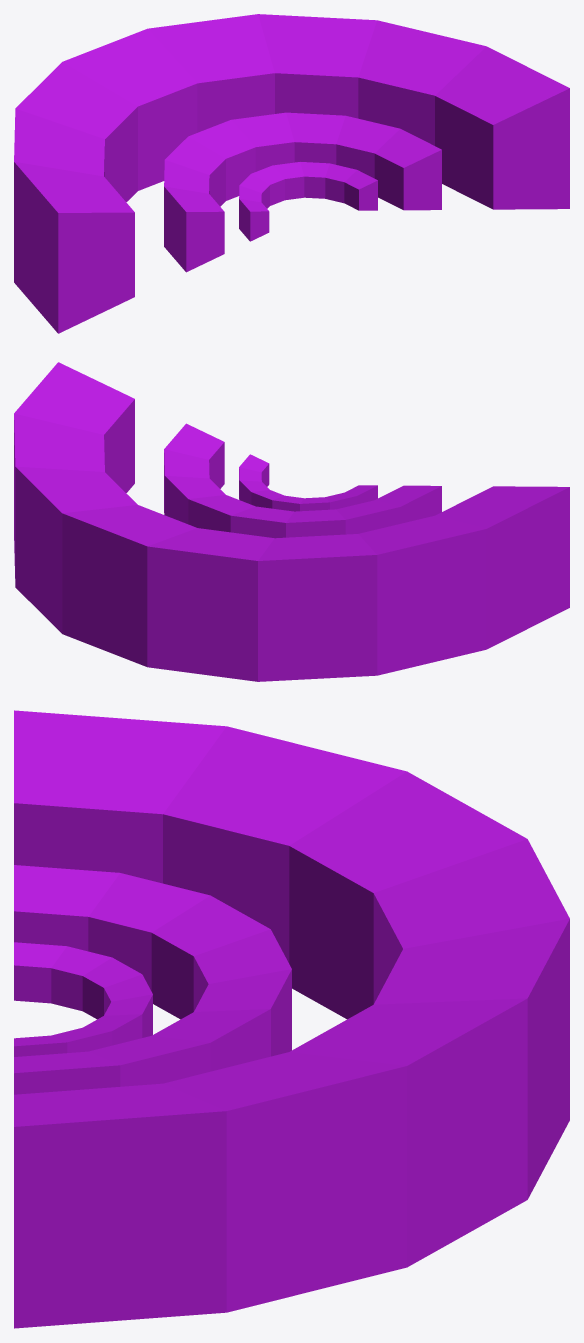
The model's file is powerup_hemisphere_shot.fbx.
3 renders of one model, top to bottom at view 1: azimuth 30°, elevation 25°; view 2: azimuth 150°, elevation 25°; view 3: azimuth 270°, elevation 25°, orthographic. The views are drawn at different scales.
Visible parts, largest first — view 1: powerup_hemisphere_shot.001; view 2: powerup_hemisphere_shot.001; view 3: powerup_hemisphere_shot.001.
Part boxes in pixels (box(x1,y1,x2,y2)): powerup_hemisphere_shot.001: box(14, 14, 569, 333); powerup_hemisphere_shot.001: box(14, 362, 569, 681); powerup_hemisphere_shot.001: box(14, 710, 569, 1328).
Size of the model in its own units: 233 by 52.52 by 131.
